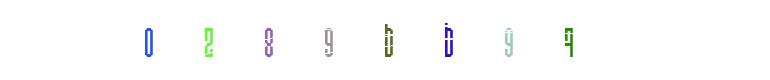0: (149, 0, 229, 80)
7: (434, 0, 514, 80)
8: (237, 0, 317, 80)
9: (291, 0, 371, 80), (422, 0, 502, 80)
B: (345, 0, 425, 80), (408, 0, 488, 80)
Z: (187, 0, 267, 80)
